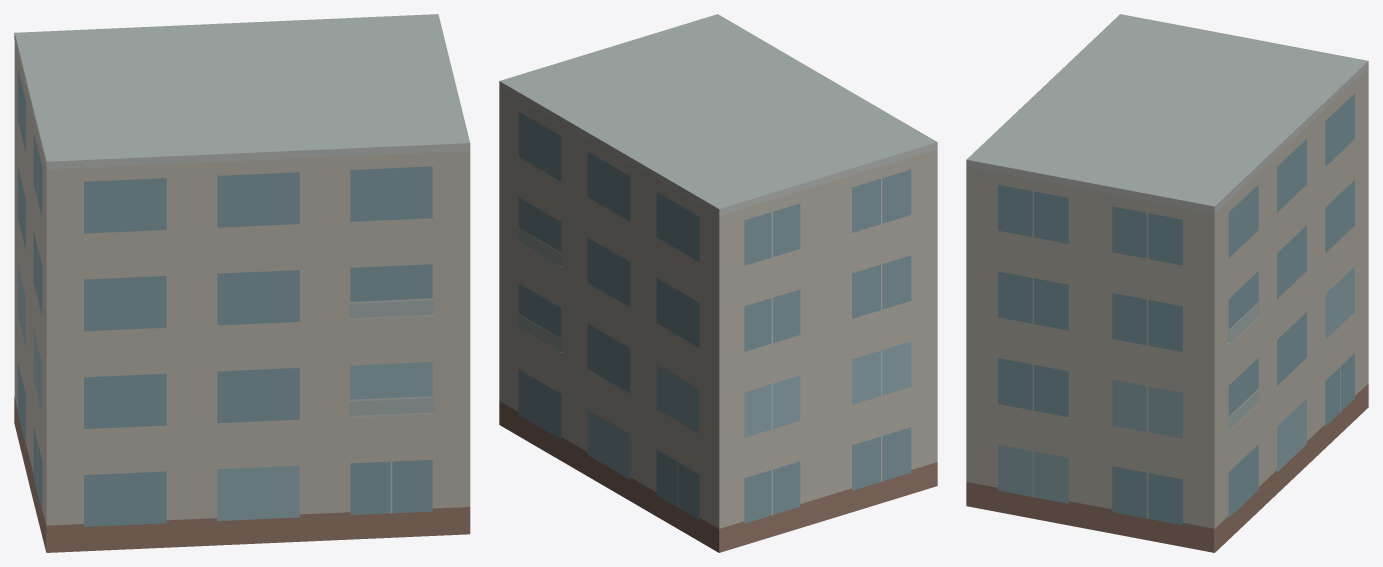
Rendered from residential-cdd2c306-068b-45b2-9ad0-0ece3de9e006.glb.
3 views of the same model, side by side, from view 1: azimuth 30°, elevation 25°; view 2: azimuth 150°, elevation 25°; view 3: azimuth 270°, elevation 25° (orthographic). The views are drawn at different scales.
Parts seen in each view (by area): view 1: residential-cdd2c306-068b-45b2-9ad0-0ece3de9e006.tmp; view 2: residential-cdd2c306-068b-45b2-9ad0-0ece3de9e006.tmp; view 3: residential-cdd2c306-068b-45b2-9ad0-0ece3de9e006.tmp.
Boxes of the visible parts, x1,y1,x2,y2 form: residential-cdd2c306-068b-45b2-9ad0-0ece3de9e006.tmp: (14,14,470,552); residential-cdd2c306-068b-45b2-9ad0-0ece3de9e006.tmp: (499,14,937,552); residential-cdd2c306-068b-45b2-9ad0-0ece3de9e006.tmp: (966,14,1368,552).
Bounding box in the file's own units: 14.55 × 12.2 × 12.85.
